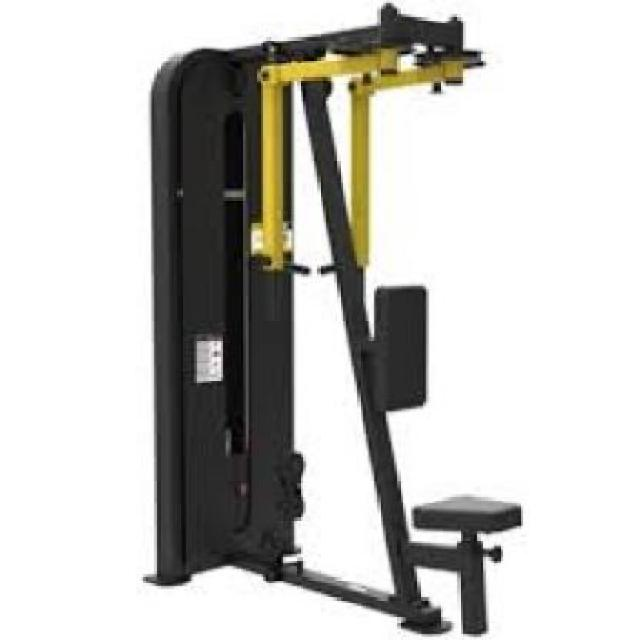chest fly machine: (114, 0, 566, 640)
